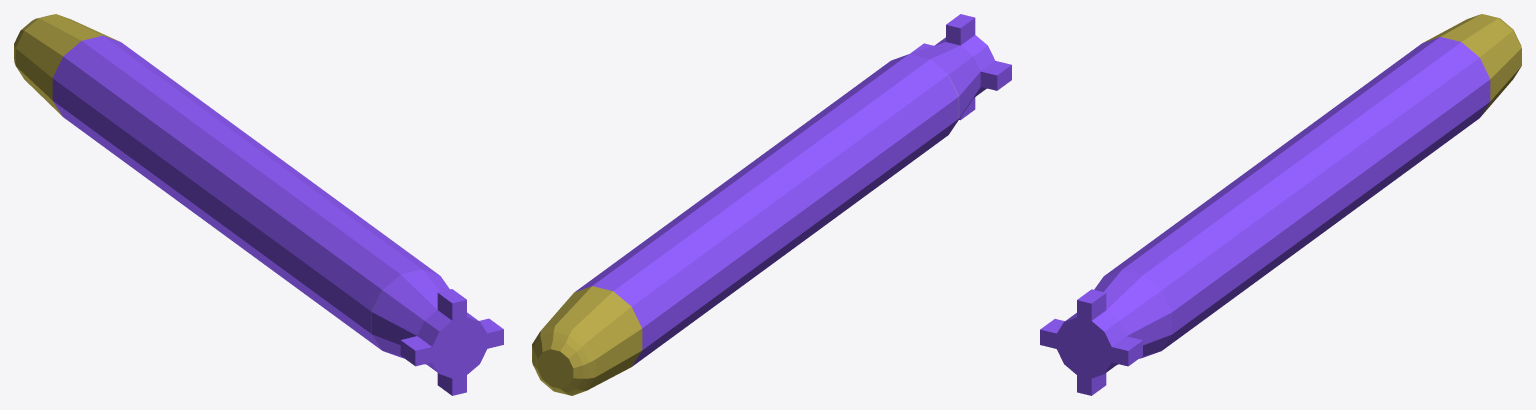
Rendered from torpedo1.fbx.
3 renders of one model, left to right at view 1: azimuth 30°, elevation 25°; view 2: azimuth 150°, elevation 25°; view 3: azimuth 330°, elevation 25°, orthographic.
Parts seen in each view (by area): view 1: Cylinder.003; view 2: Cylinder.003; view 3: Cylinder.003.
Boxes of the visible parts, x1,y1,x2,y2 form: Cylinder.003: [14, 14, 503, 395]; Cylinder.003: [532, 14, 1011, 395]; Cylinder.003: [1040, 14, 1521, 395].
Size of the model in its own units: 9.26 by 9.26 by 76.27.
1 material, 1 textured.
